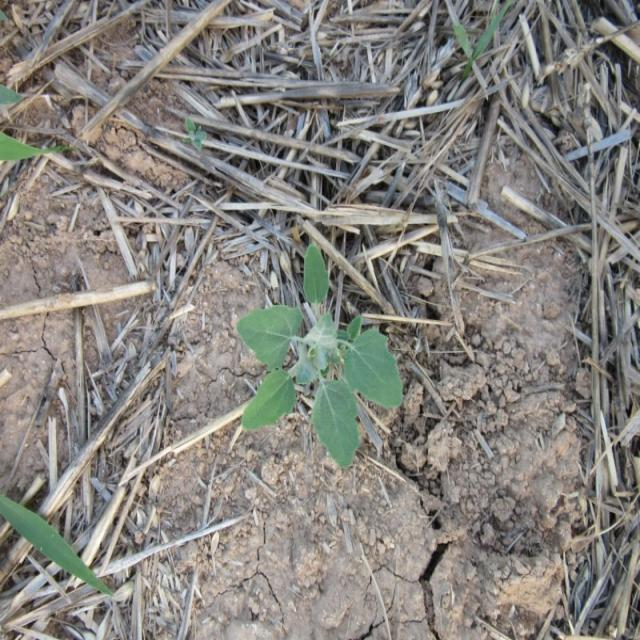ca: (240, 242, 404, 466)
